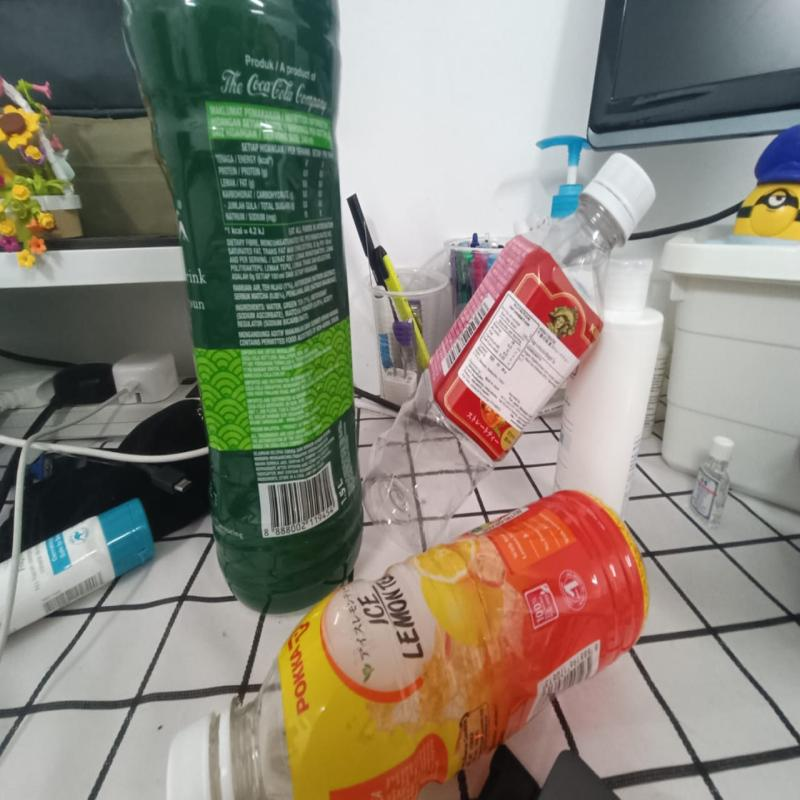botella: (164, 489, 648, 800), (126, 0, 366, 613), (370, 151, 657, 573)
